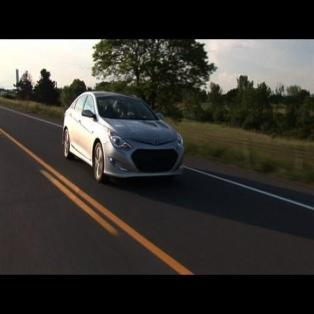Auto: (63, 90, 186, 182)
